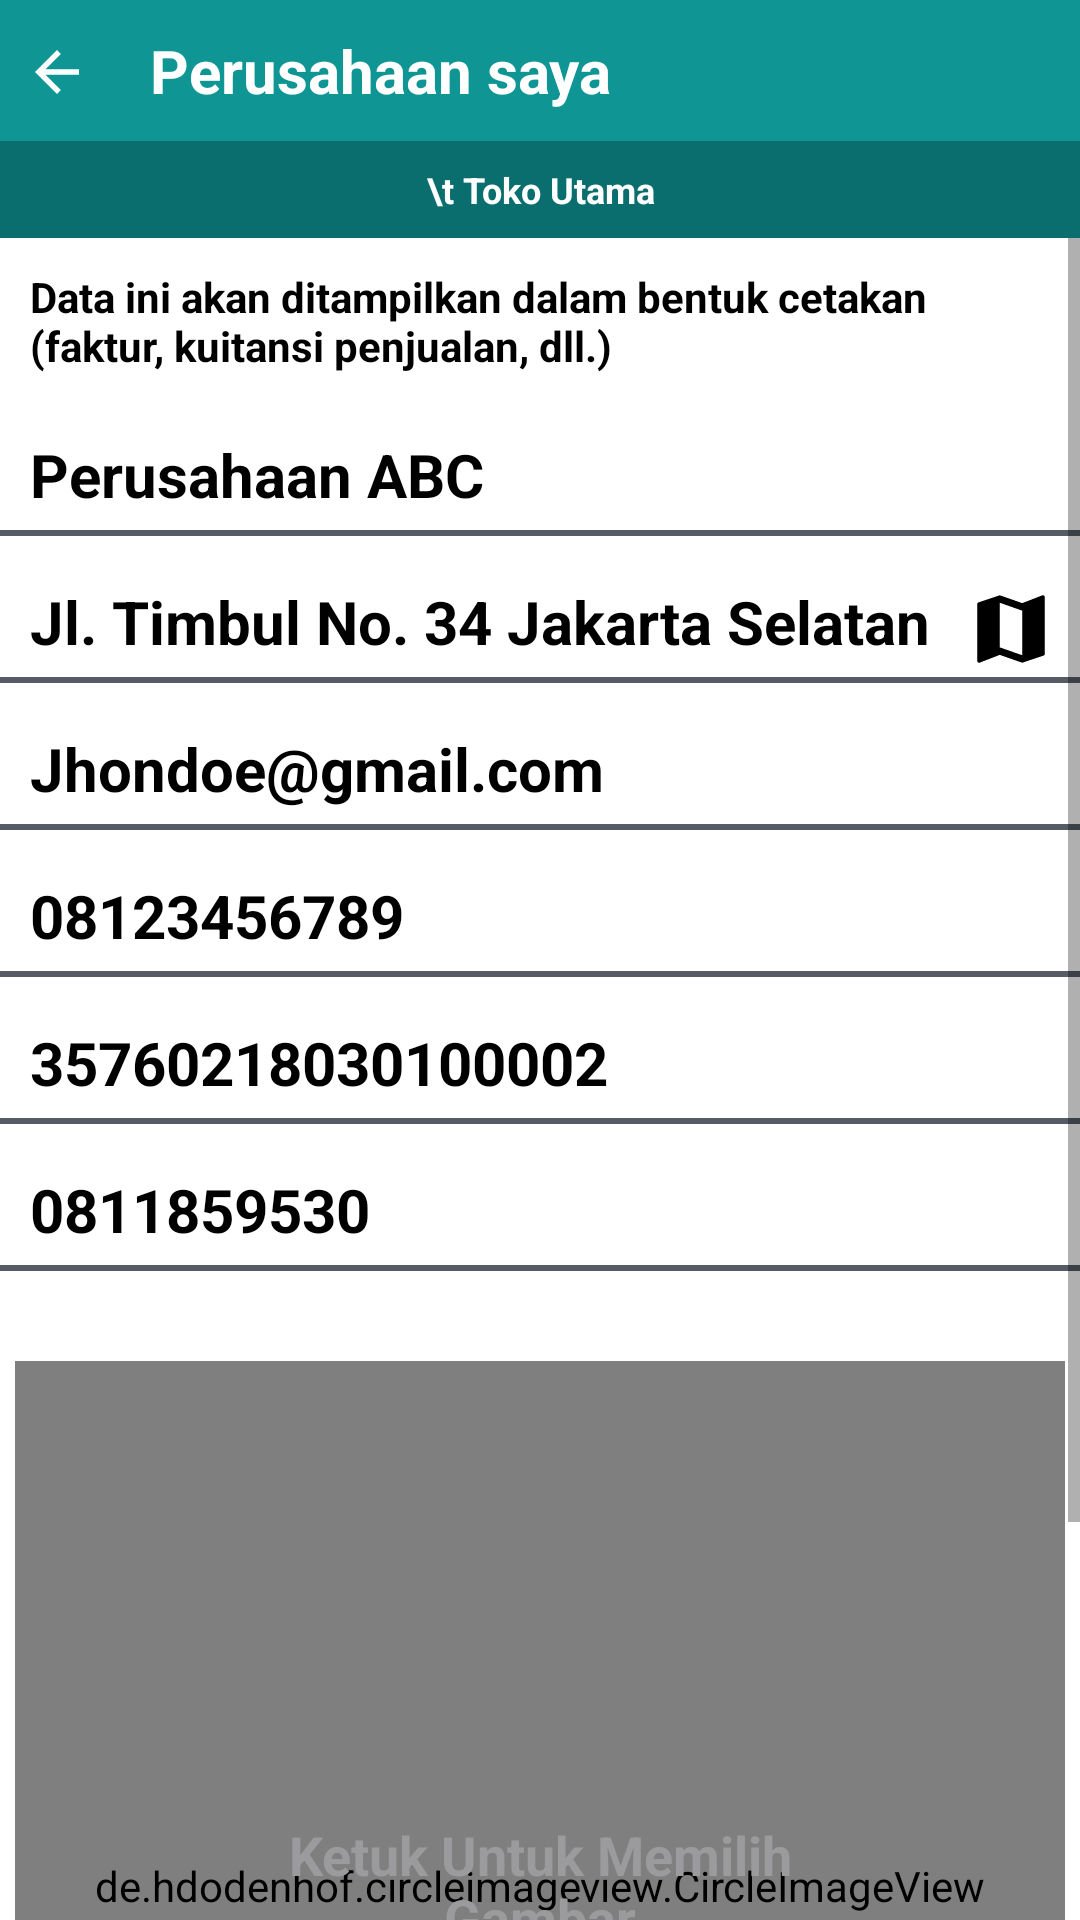

Screen size 1080*1920. Icon name, then its center in pixels as (x=x, y=y):
back: (x=57, y=72)
map: (x=1011, y=629)
